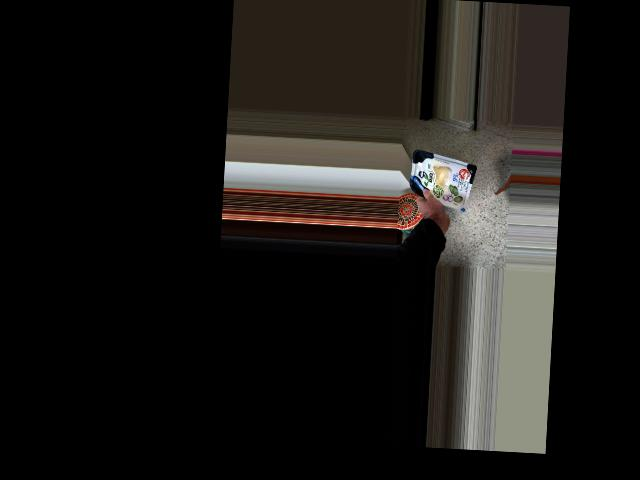cheese: (404, 154, 478, 206)
